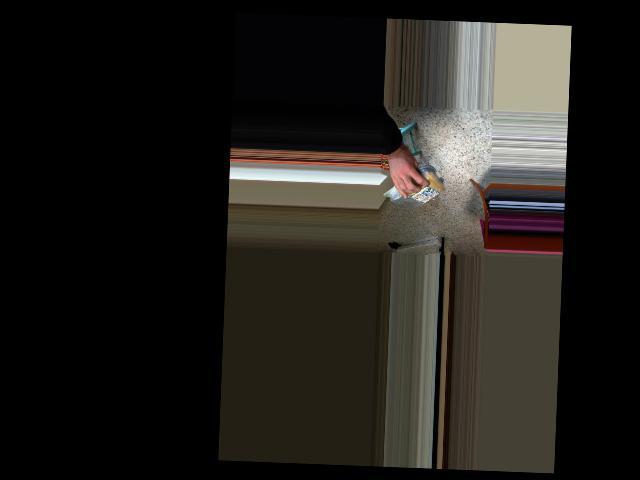cheese: (386, 173, 451, 203)
